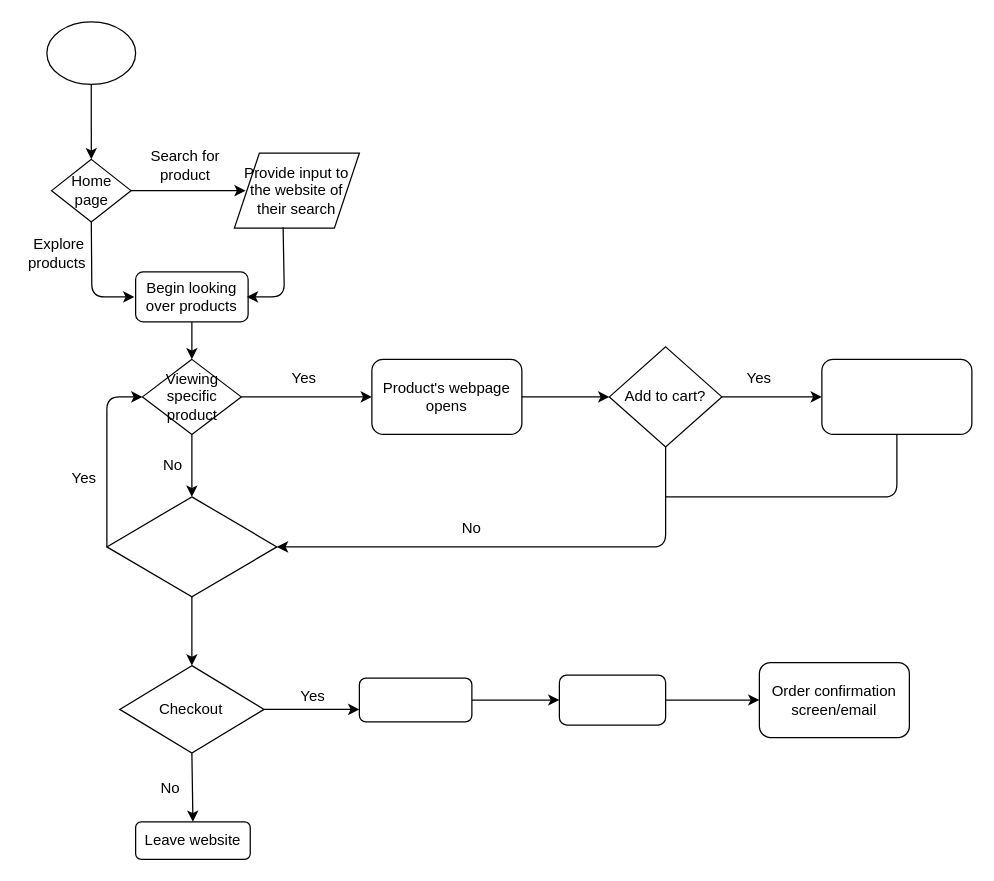
Some shapes in this 994 by 881 pixel diagram are drawn without their labels. Here are the shapes that lost their labels. From the top down, the box of each, then its label:
(46, 21, 136, 84): Enter website
(821, 358, 972, 434): Receive an added to cart confirmation
(106, 496, 277, 597): Continue shopping?
(358, 677, 472, 722): View payment screen
(558, 674, 666, 725): Input payment information
